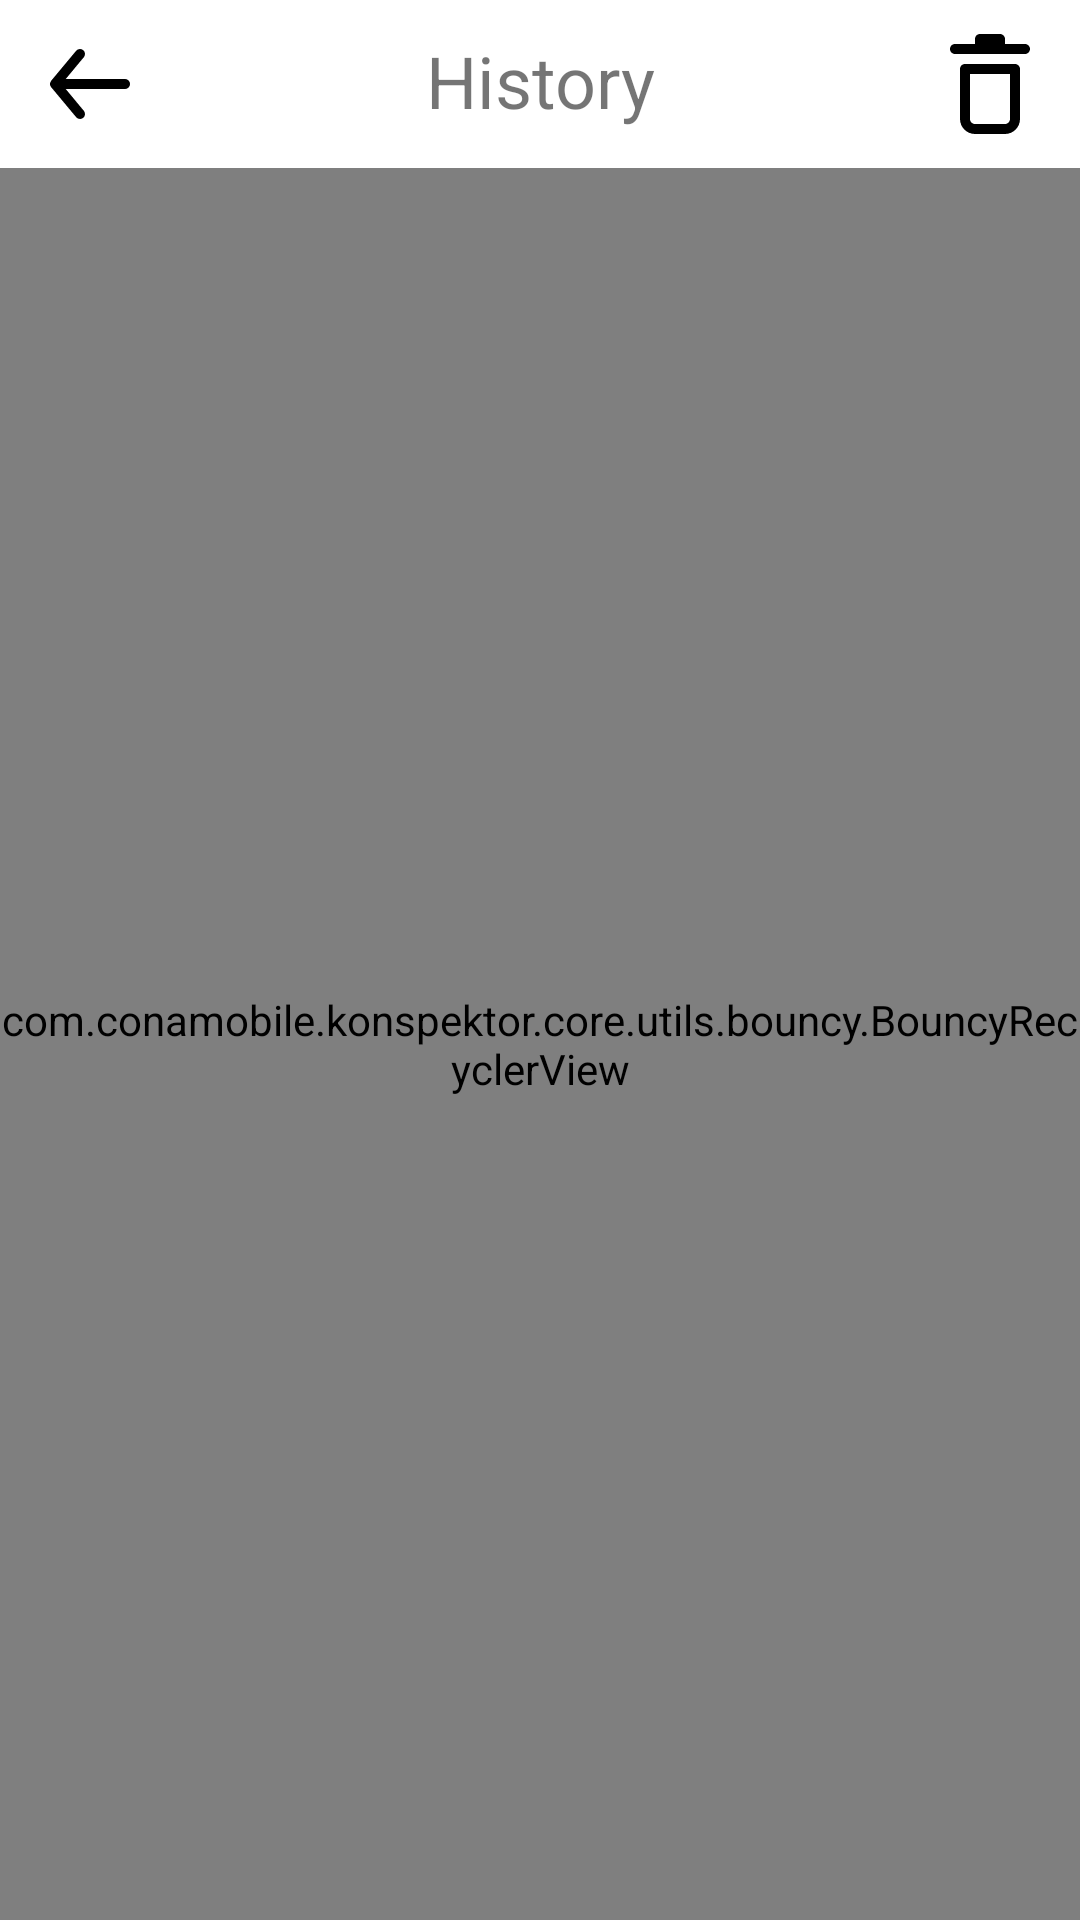

Locate icon controls on the screen. Image size 1080*1920, boxes as (x1, y1, x2, y2).
back: (50, 49, 130, 119)
delete: (950, 34, 1030, 134)
